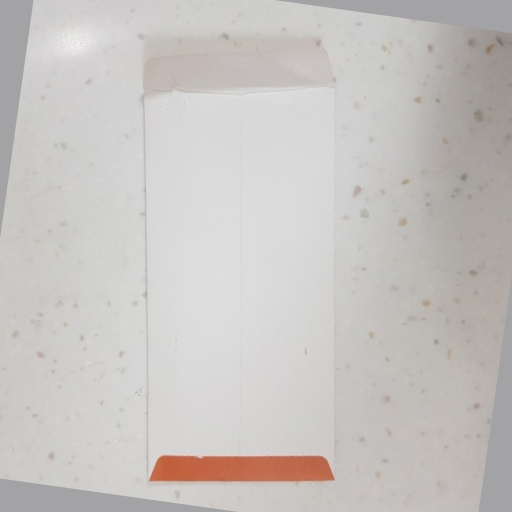Paper_2: (130, 66, 349, 512)
